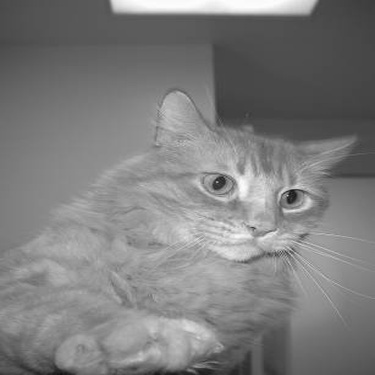cat: (8, 88, 359, 369)
